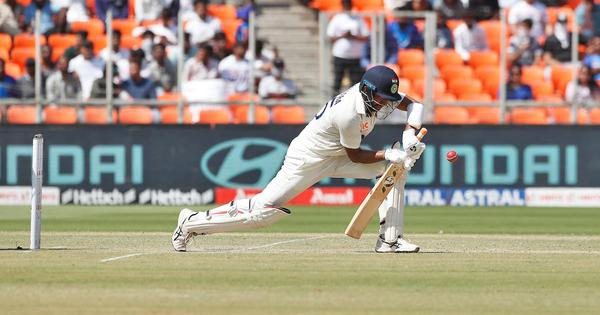Defence: (117, 6, 521, 278)
